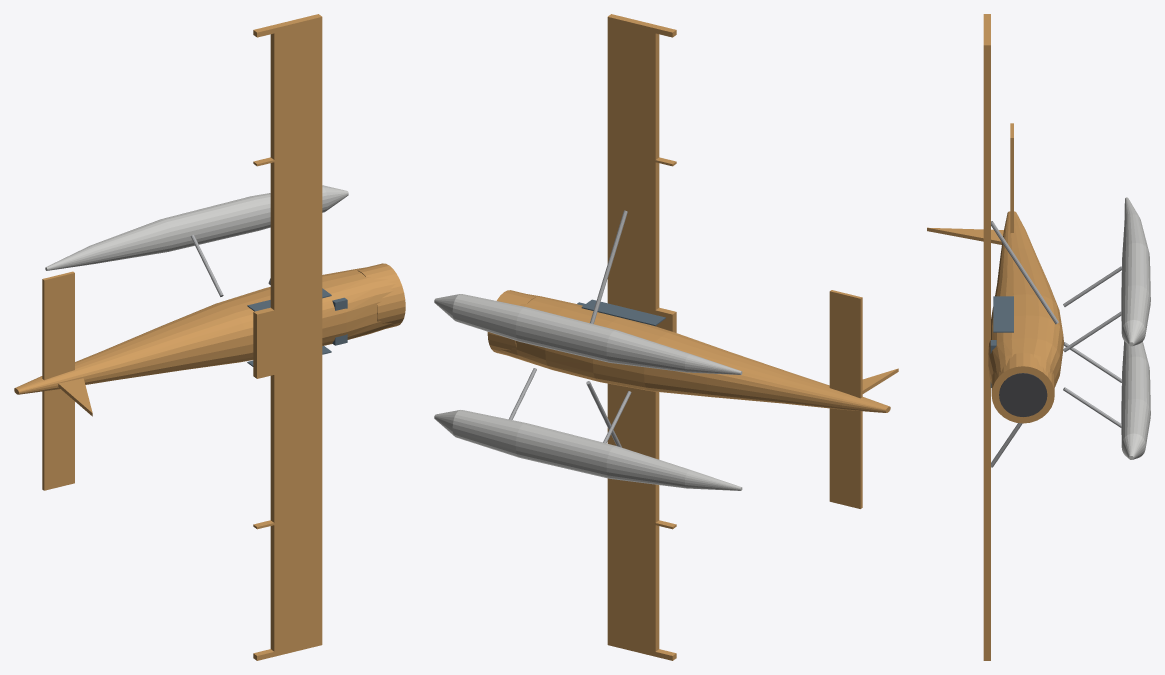
Rendered from beaver_body_orange.glb.
The picture shows the model from 3 angles, left to right: view 1: azimuth 30°, elevation 25°; view 2: azimuth 150°, elevation 25°; view 3: azimuth 270°, elevation 25°; orthographic projection. The views are drawn at different scales.
Visible parts, largest first — view 1: part15, part16, part0, part21, part19, part1, part20; view 2: part15, part16, part0, part24, part21, part19, part13, part1; view 3: part0, part21, part24, part15, part16, part1, part2, part13, part20, part17, part19.
Part boxes in pixels (bbox=[...]): part15: bbox=[253, 14, 322, 346]; part16: bbox=[253, 331, 322, 660]; part0: bbox=[14, 267, 395, 394]; part21: bbox=[45, 185, 348, 270]; part19: bbox=[42, 271, 74, 490]; part1: bbox=[357, 263, 405, 328]; part20: bbox=[58, 378, 92, 416]; part15: bbox=[607, 14, 676, 332]; part16: bbox=[607, 383, 676, 660]; part0: bbox=[498, 294, 890, 412]; part24: bbox=[434, 410, 742, 490]; part21: bbox=[434, 294, 742, 374]; part19: bbox=[829, 290, 862, 508]; part13: bbox=[581, 299, 665, 326]; part1: bbox=[487, 290, 535, 354]; part0: bbox=[988, 211, 1063, 387]; part21: bbox=[1121, 197, 1150, 346]; part24: bbox=[1121, 341, 1150, 459]; part15: bbox=[983, 14, 990, 352]; part16: bbox=[983, 353, 990, 660]; part1: bbox=[991, 353, 1054, 423]; part2: bbox=[999, 373, 1047, 416]; part13: bbox=[993, 296, 1013, 332]; part20: bbox=[927, 227, 1003, 244]; part17: bbox=[991, 221, 1058, 324]; part19: bbox=[1010, 123, 1013, 233].
Size of the model in its own units: 9.55 by 14.63 by 4.82.
